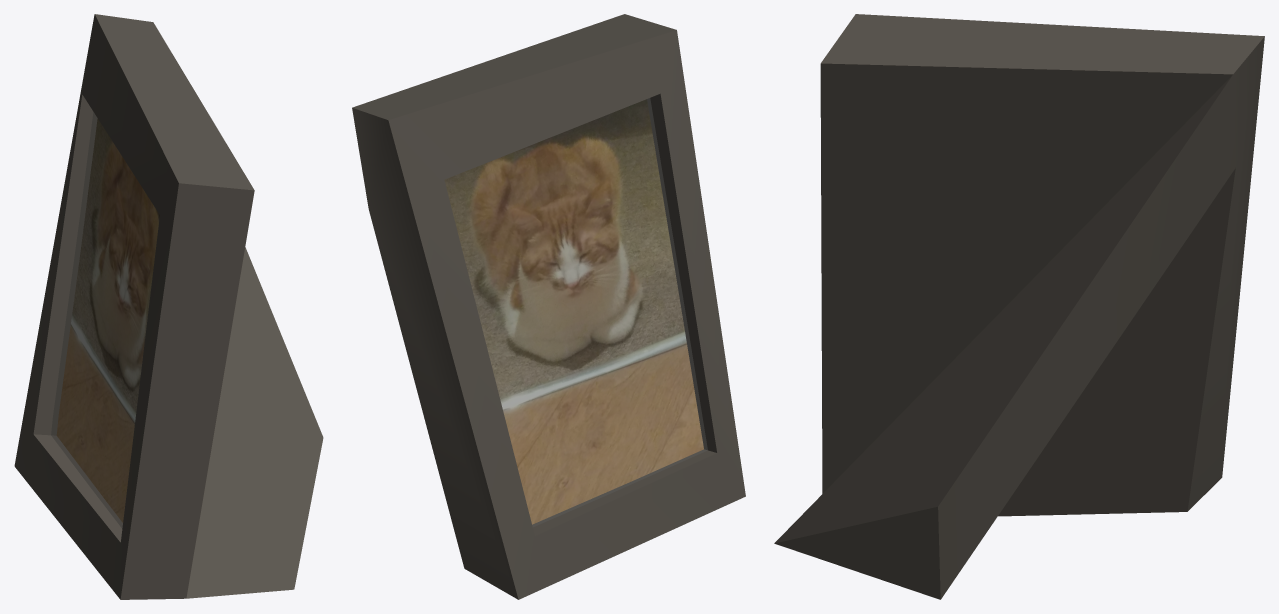
File: Photo Frame 02.fbx
3 renders of one model, left to right at view 1: azimuth 30°, elevation 25°; view 2: azimuth 150°, elevation 25°; view 3: azimuth 270°, elevation 25°, orthographic. The views are drawn at different scales.
Parts seen in each view (by area): view 1: pCube5, pPlane2, pPlane1; view 2: pCube5, pPlane2, pPlane1; view 3: pCube5.
Part boxes in pixels (x1,y1,x2,y2): pCube5: (14,14,323,599); pPlane2: (51,112,159,527); pPlane1: (56,119,159,522); pCube5: (352,14,745,599); pPlane2: (444,98,707,526); pPlane1: (444,99,703,524); pCube5: (774,14,1264,599).
Size of the model in its own units: 0.1867 by 0.3255 by 0.277.
Materials: 3 (1 with a texture image).
